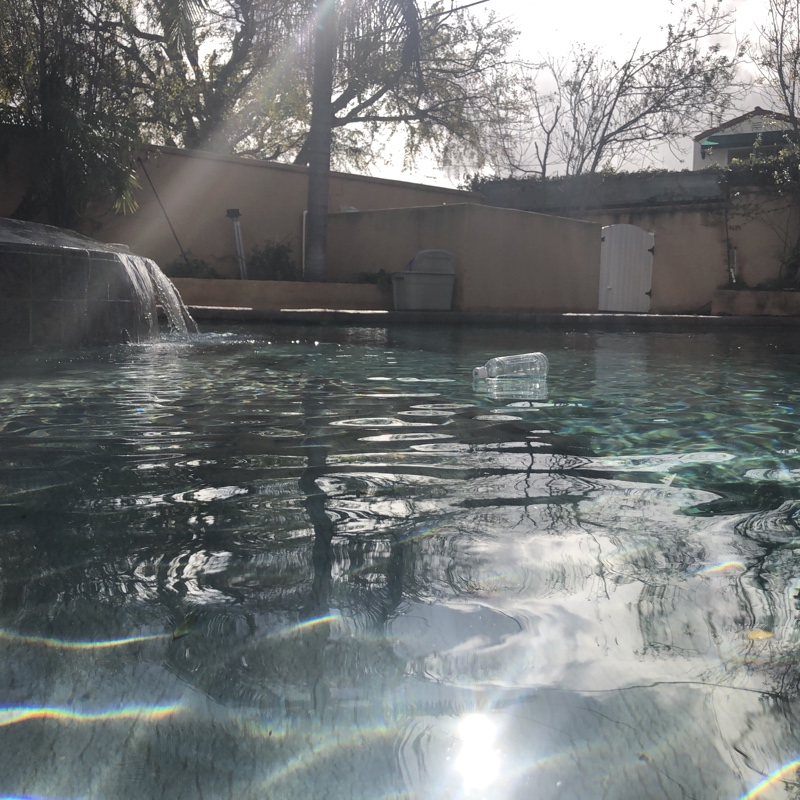Plastic Bottle: (471, 350, 550, 384)
